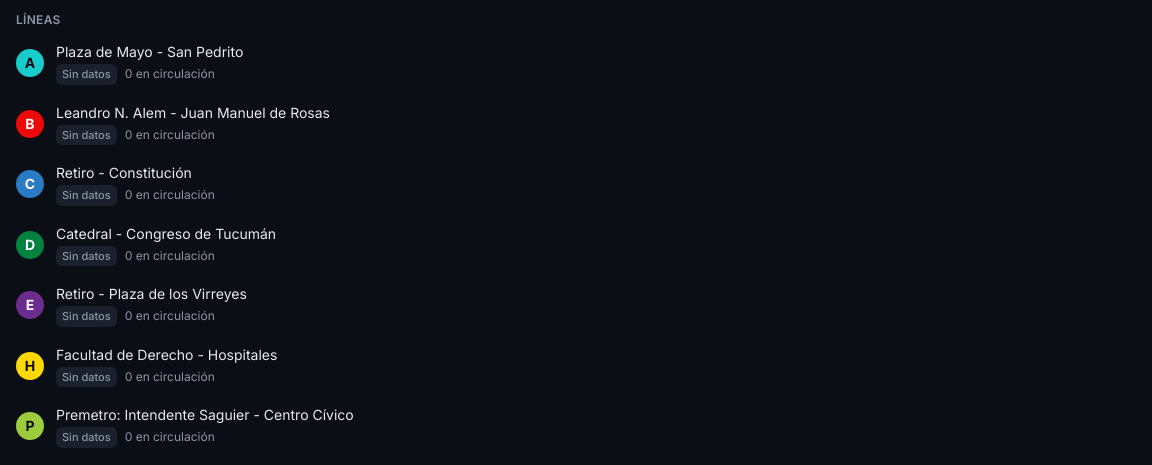
Test: LineSelector (M4) › marca aria-pressed en la línea seleccionada
Step 1. Click the button with aria-label "Línea A:" → (150, 52), box [8,34,1144,92]
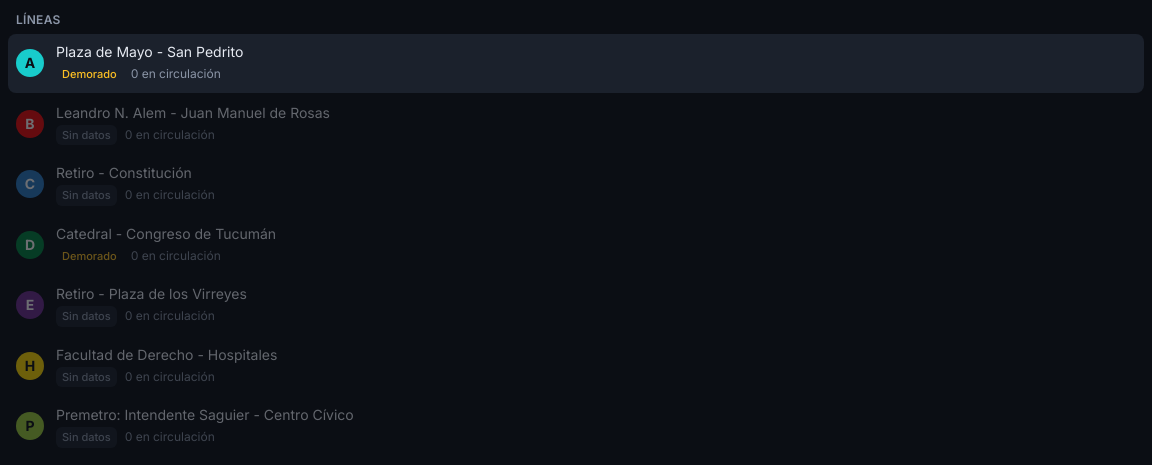
expect the button with aria-label "Línea A:" is pressed: met, box [8,34,1144,92]
